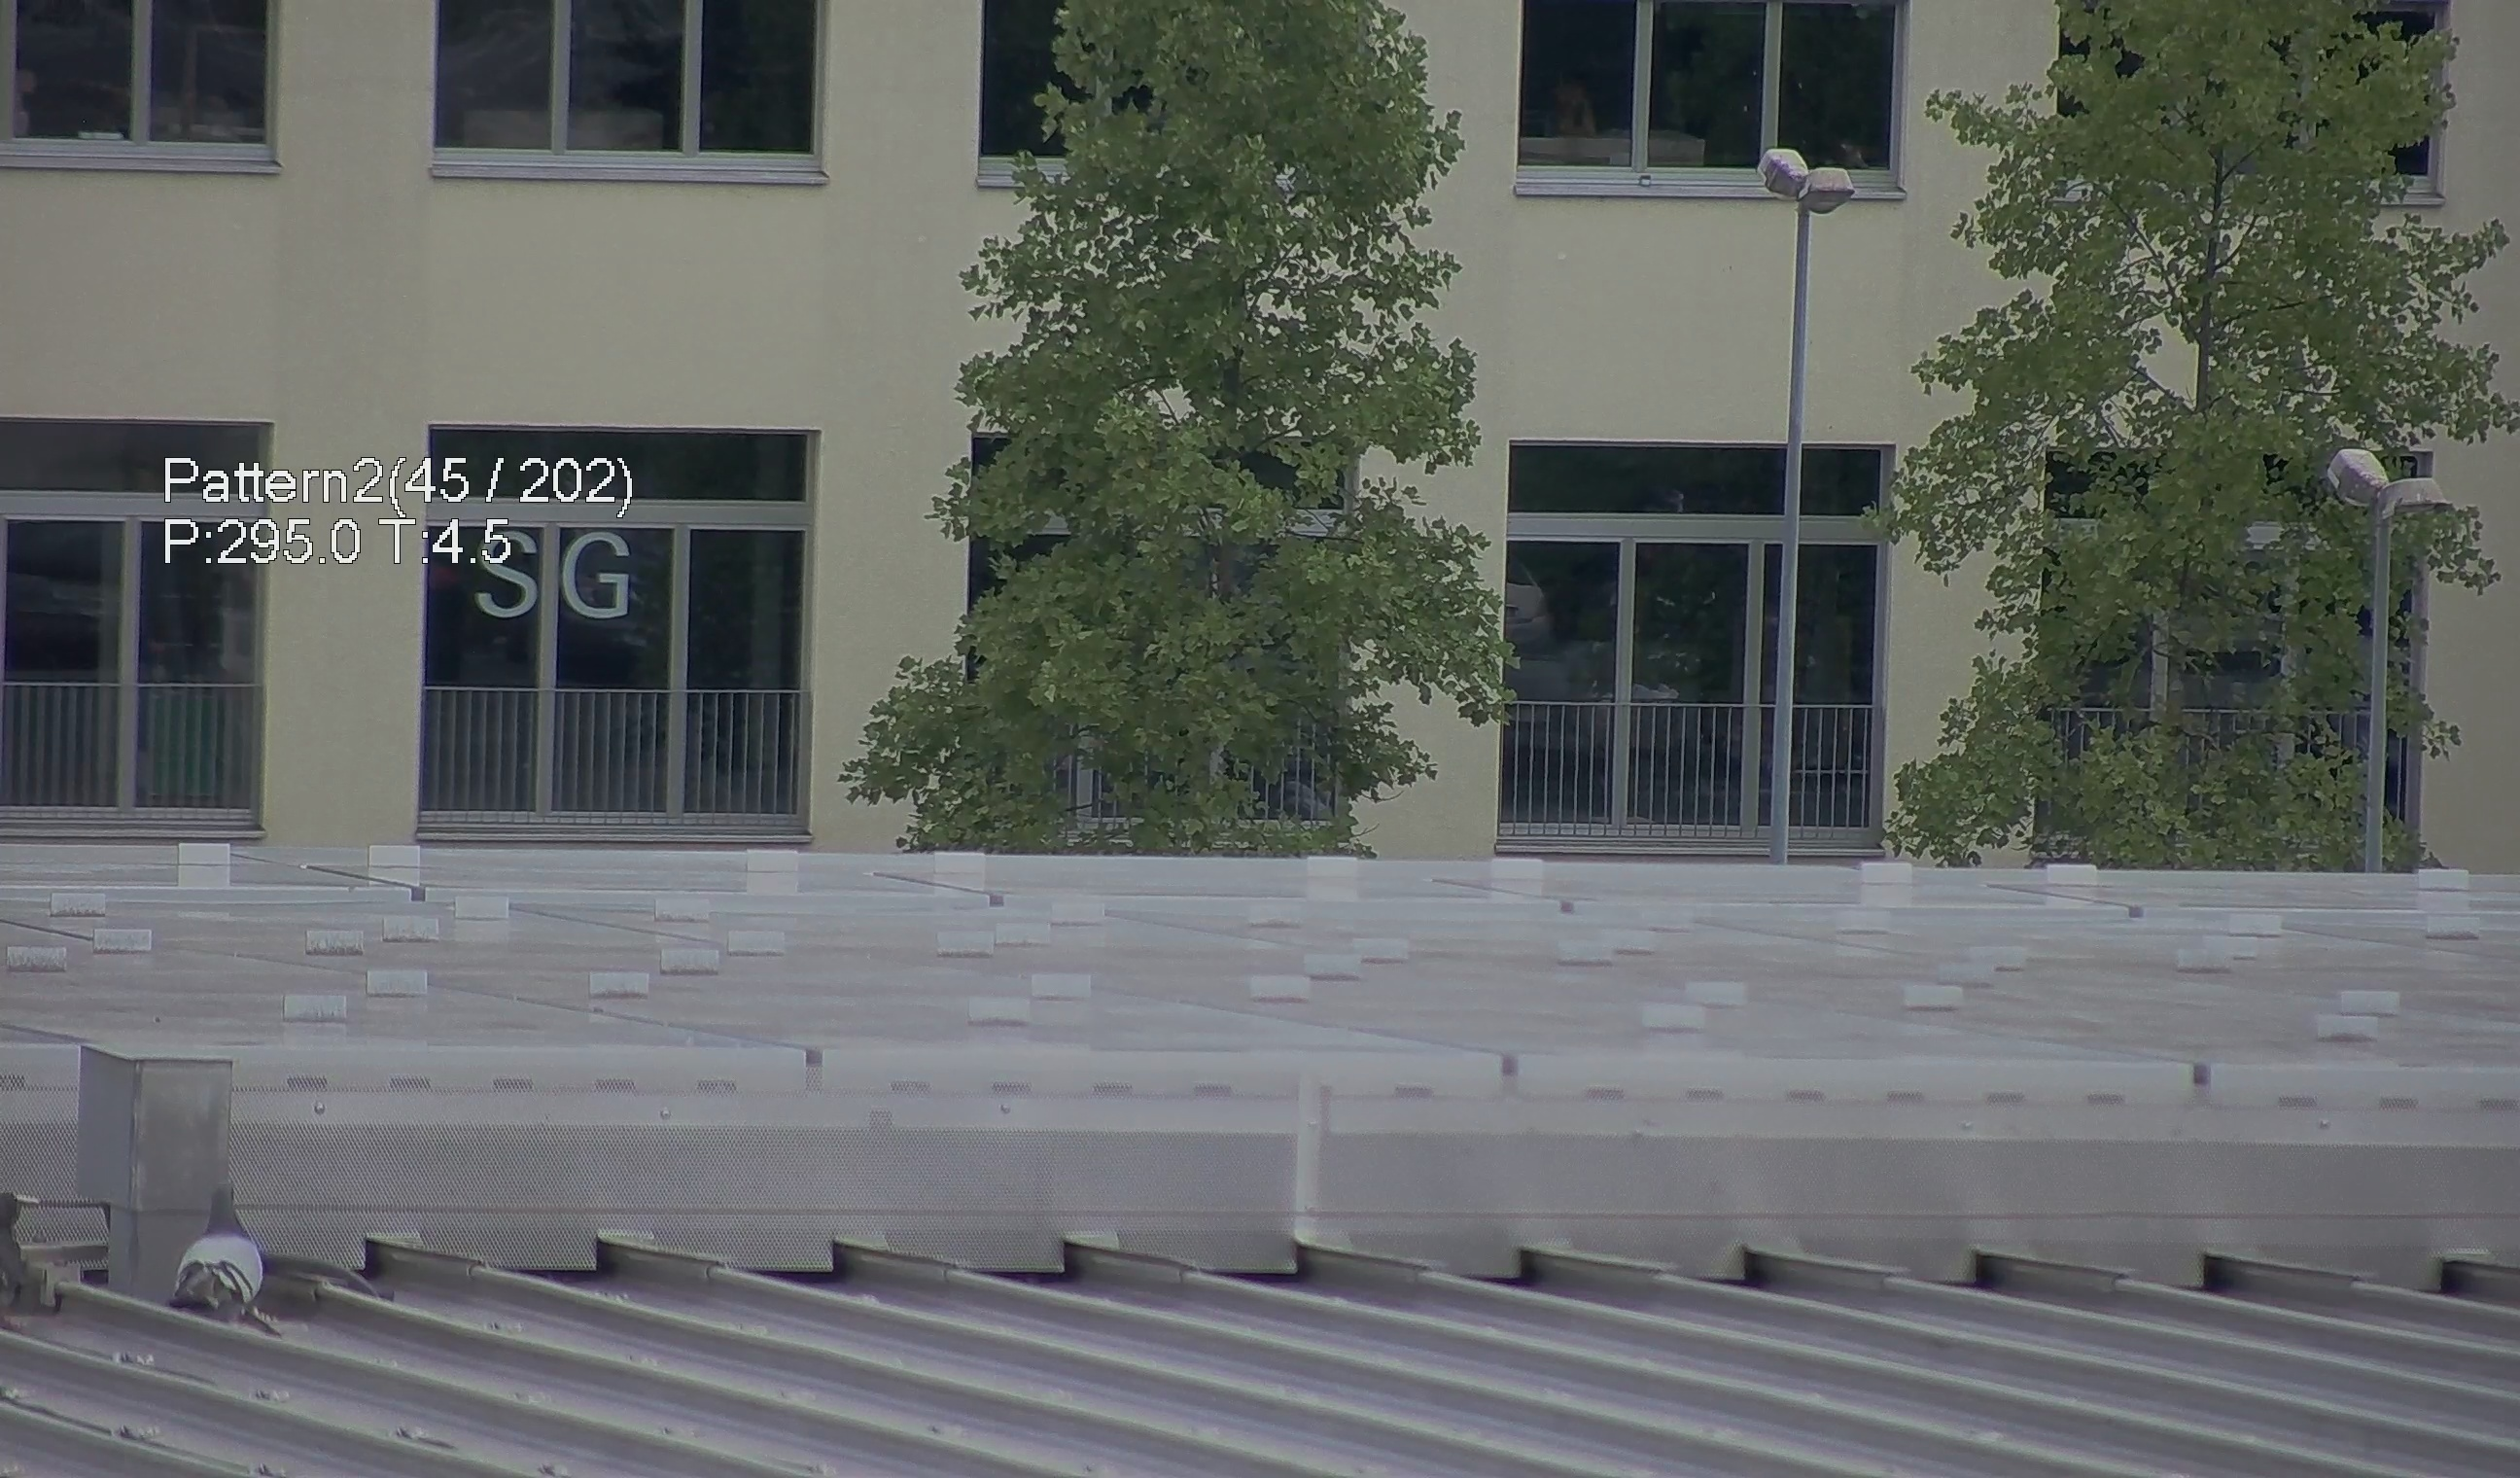Pigeon: (157, 1175, 281, 1337)
